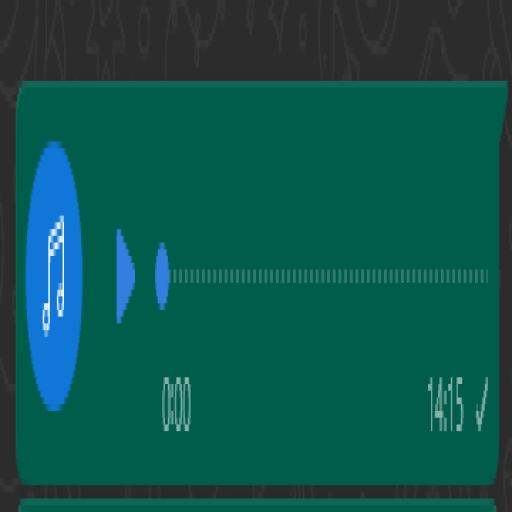mensagem-recebida: (16, 81, 505, 478)
whatsapp: (421, 27, 465, 74)
